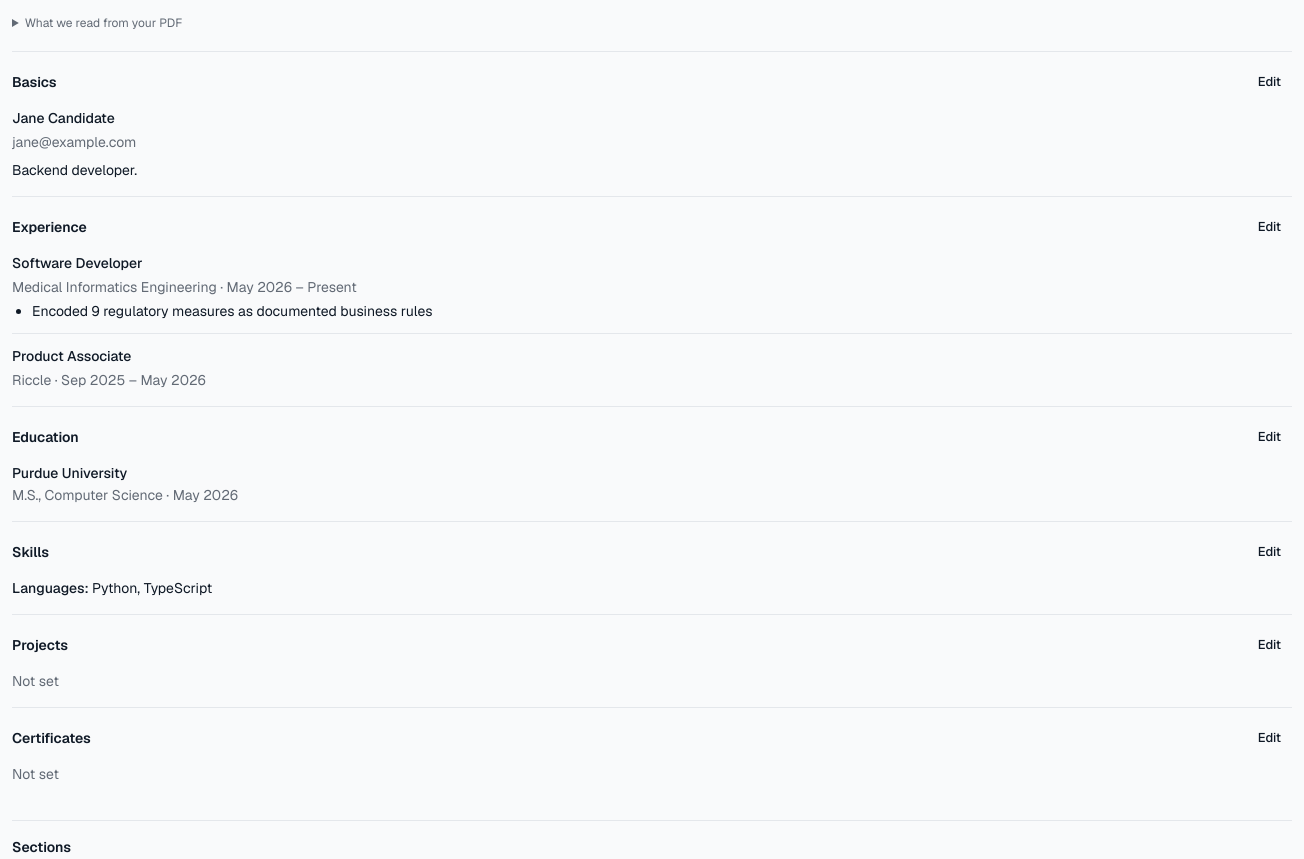
it: ResumePanel (#350) › saves one section from its own Save button and changes nothing else
Click the 2nd button "Edit" at (1269, 227), box [1247, 213, 1292, 241]
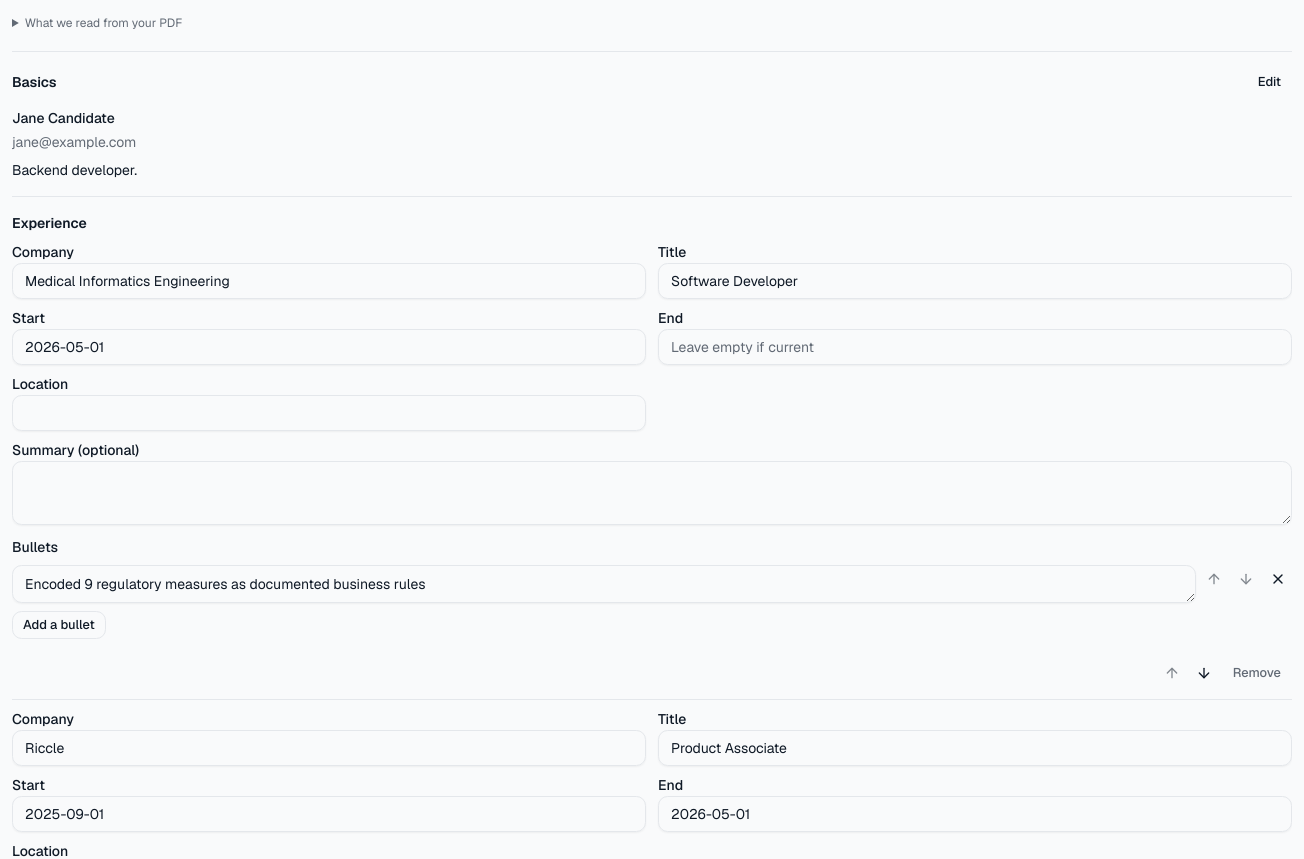
Replace the text in the 2nd field labelled "Title" with "Operations Analyst" at (975, 748), box [658, 730, 1292, 766]
(page scrolled)
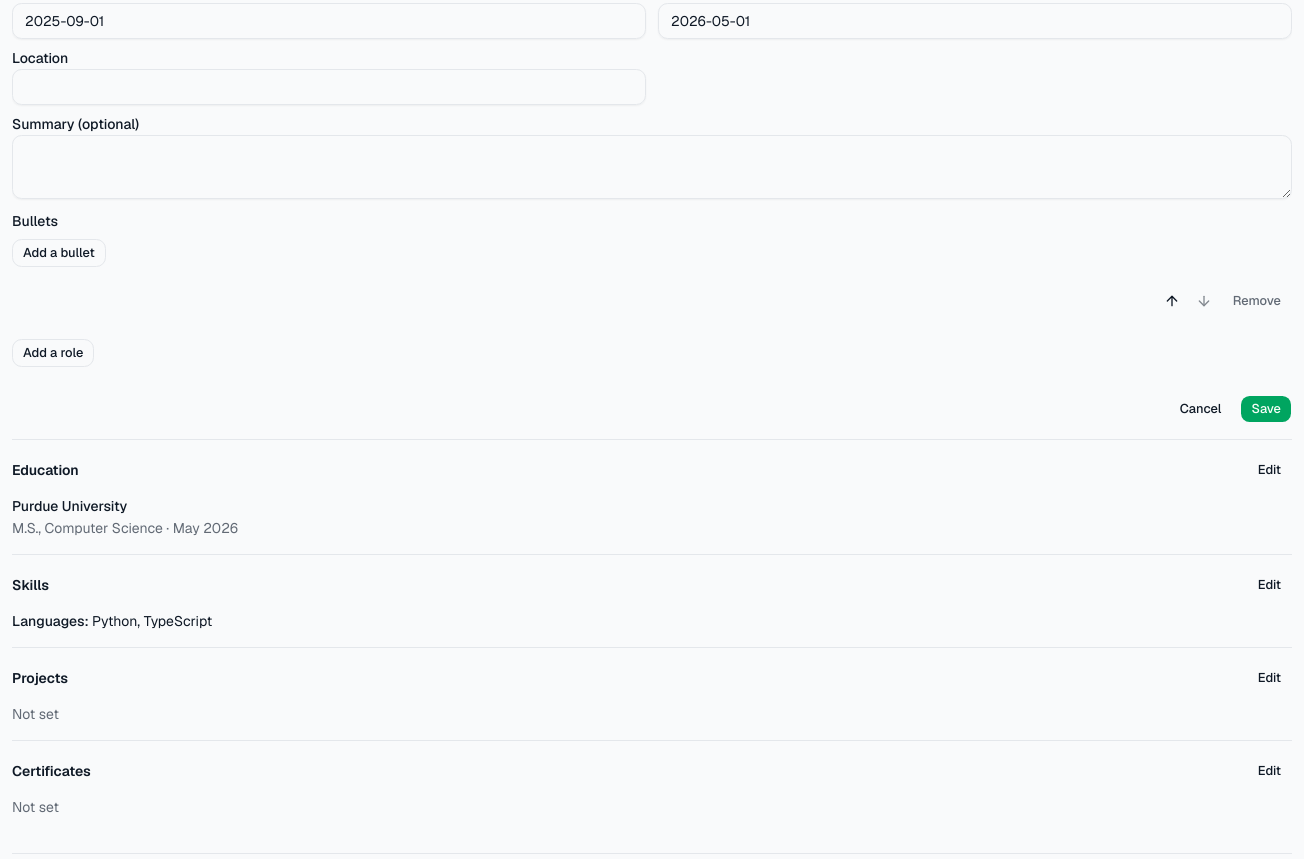
Click the button "Save" at (1266, 409), box [1240, 395, 1292, 423]
(page scrolled)
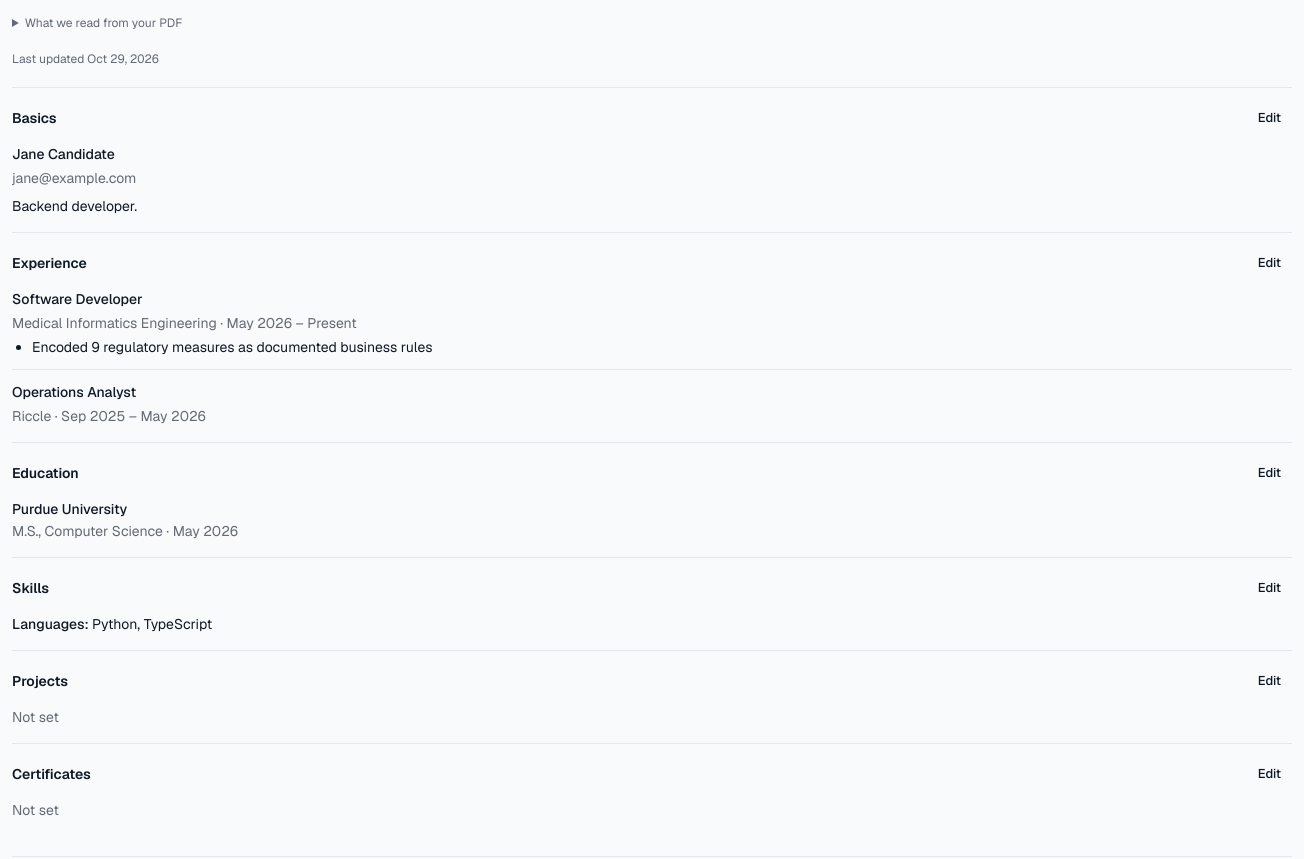
Result: the text "Operations Analyst" is shown at [12, 383, 136, 401]
